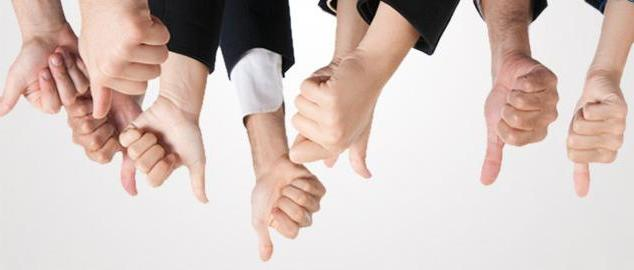thumbsdown: (479, 59, 562, 186), (118, 107, 210, 206), (89, 14, 173, 121), (249, 164, 328, 263), (564, 83, 628, 198), (73, 96, 140, 201)
